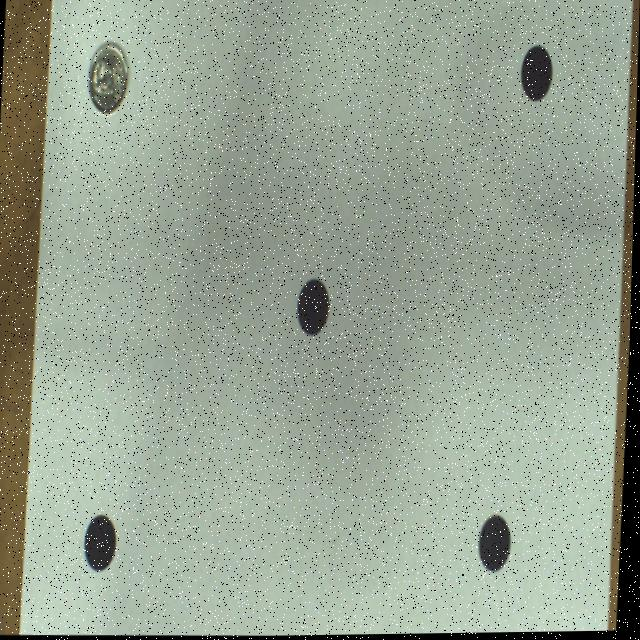head1bath: (88, 43, 128, 113)
space: (299, 279, 331, 337), (87, 514, 119, 571), (481, 517, 514, 572), (521, 48, 553, 103)
